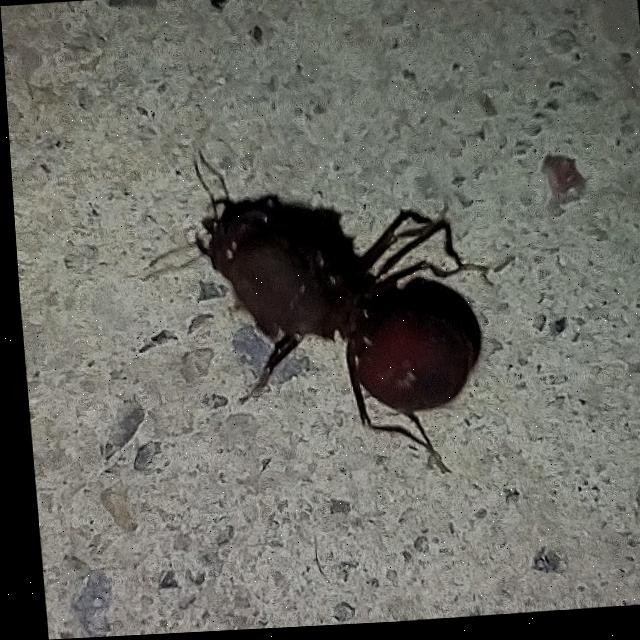Alive-Female-Dealate: (128, 142, 527, 494)
